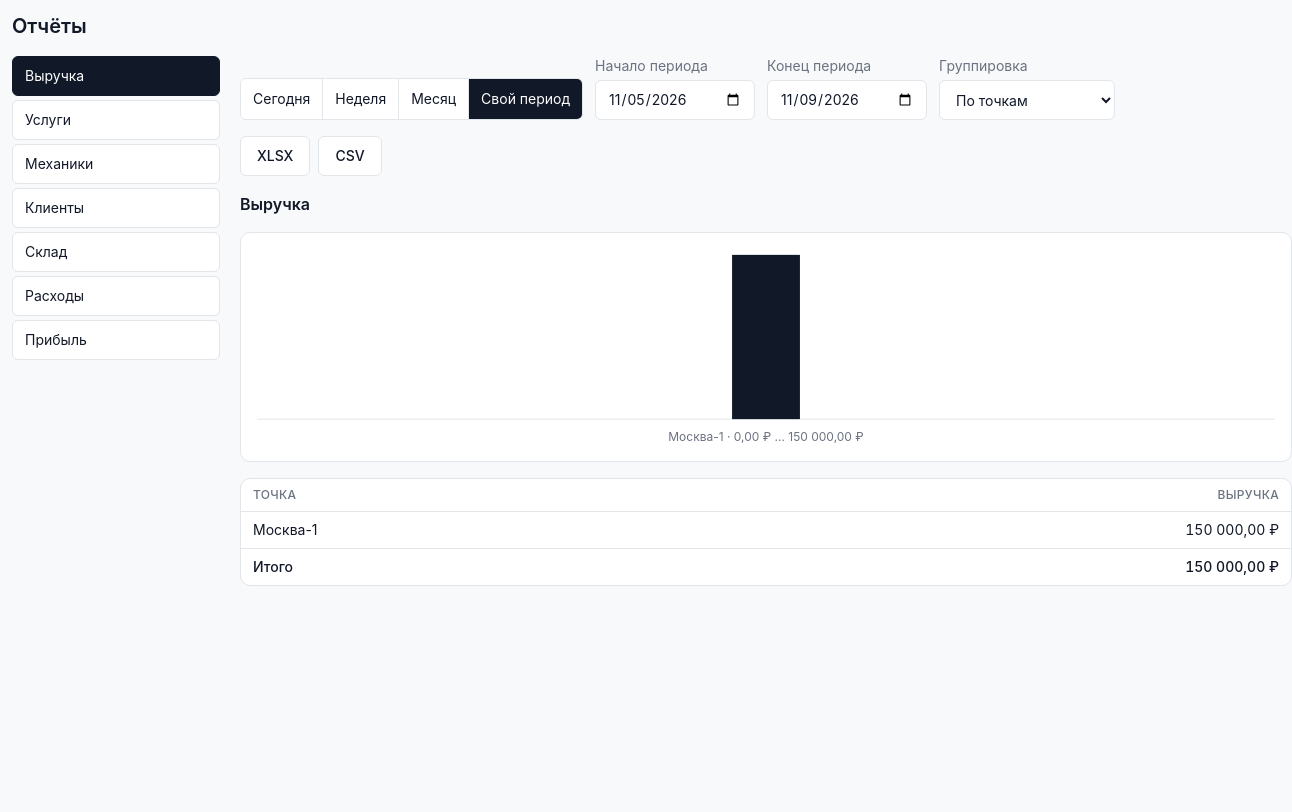
Test: D-02 отчёты › таблица с итогами, группировка уходит в запрос; «Прибыль» строится по целым месяцам
Expected: the heading "Отчёты" is shown, [12,14,87,38]
Expected: the text "150 000,00 ₽" is shown 2 times, [691,512,1291,548]; [691,548,1291,585]
Select "По дням" in the dropdown labelled "Группировка": [1027, 100] box [939,80,1115,120]
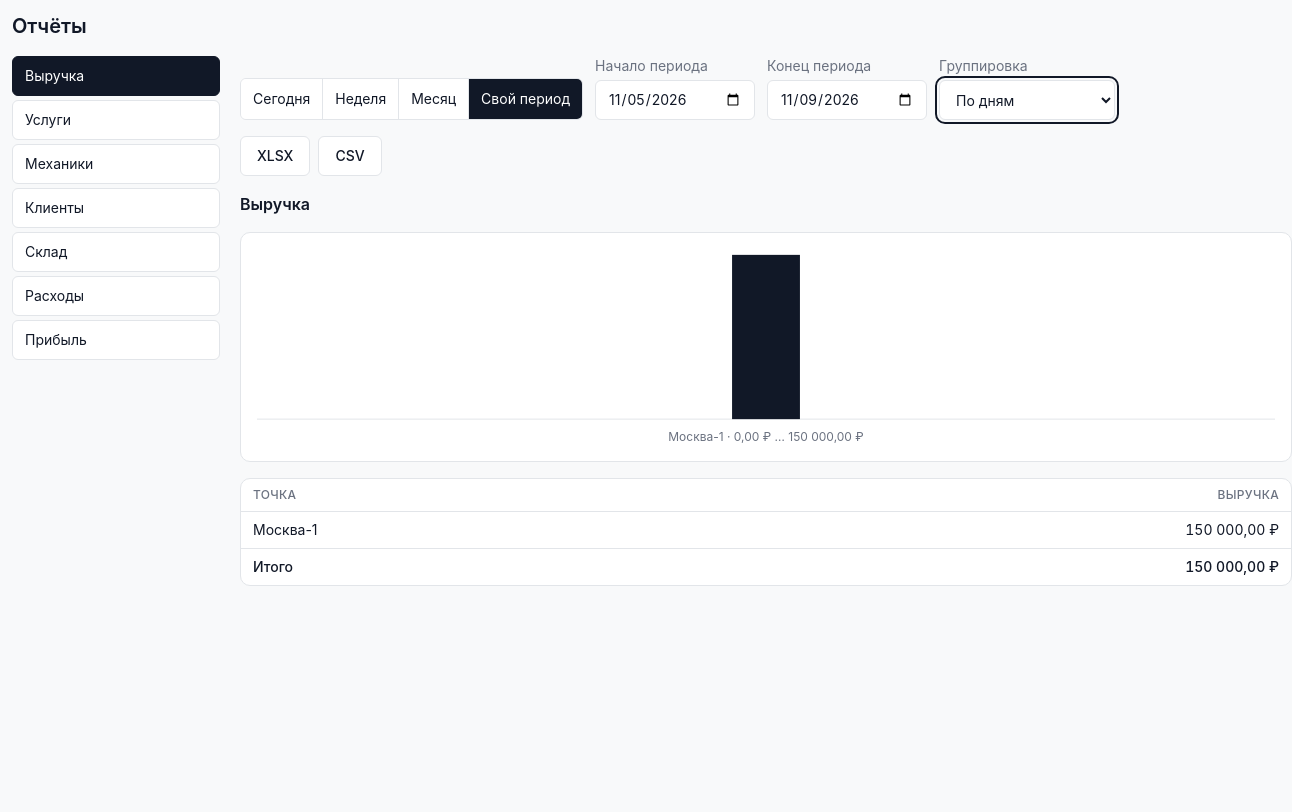
Click the button "Прибыль": [116, 340] box [12,320,220,360]
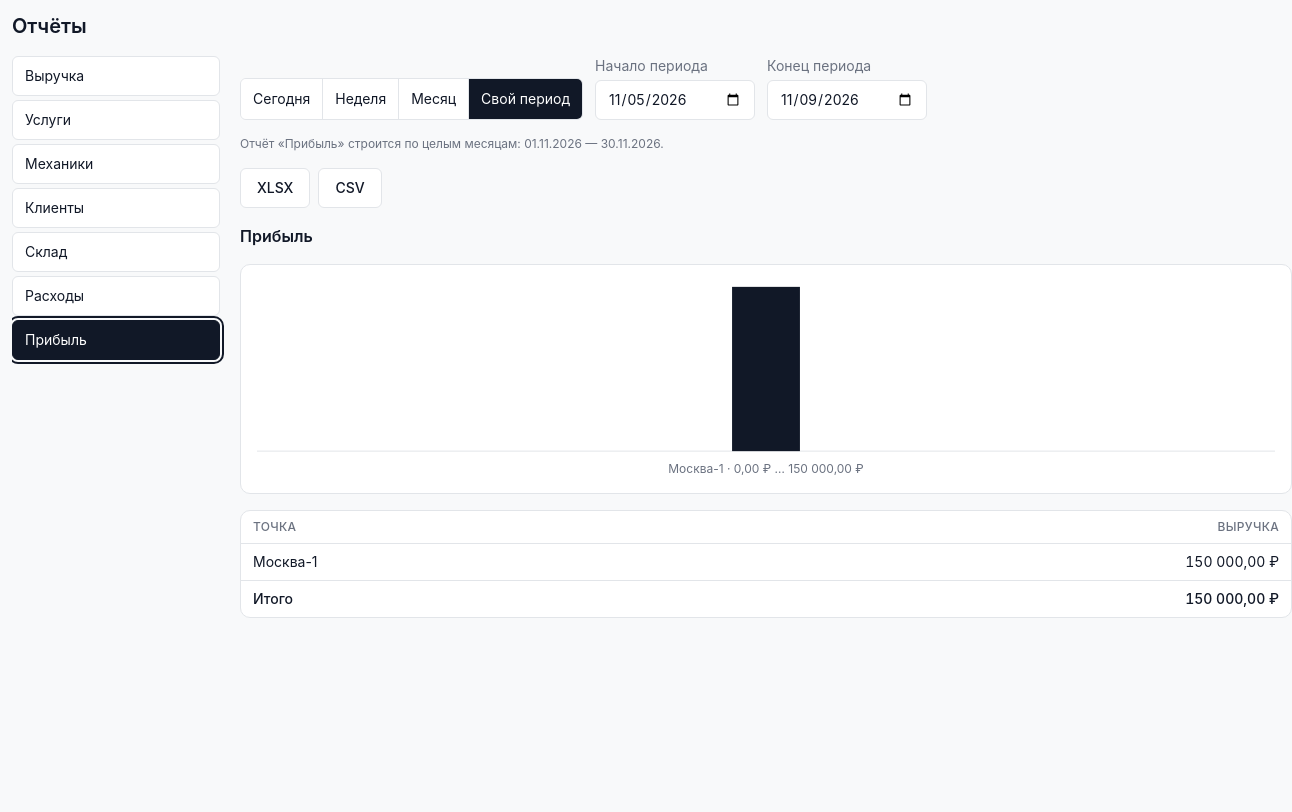
Now the text "строится по целым месяцам" is shown, box [240,136,524,151]
